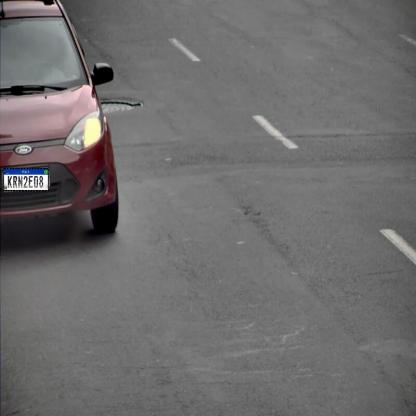PlacaM: (3, 168, 49, 191)
